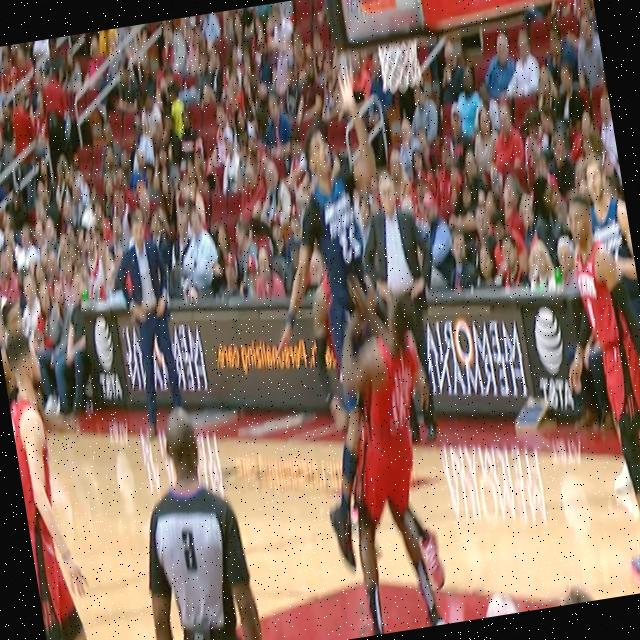Foul: (296, 146, 443, 564)
